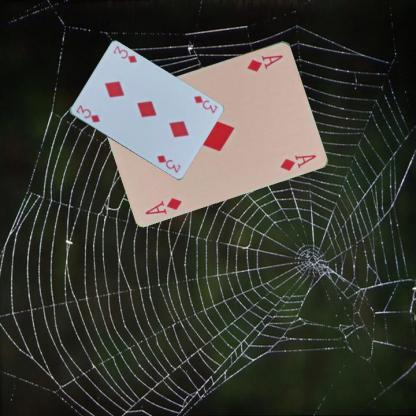3d: (73, 102, 101, 124), (191, 93, 218, 114)
Ad: (244, 51, 284, 73), (143, 194, 183, 216)
